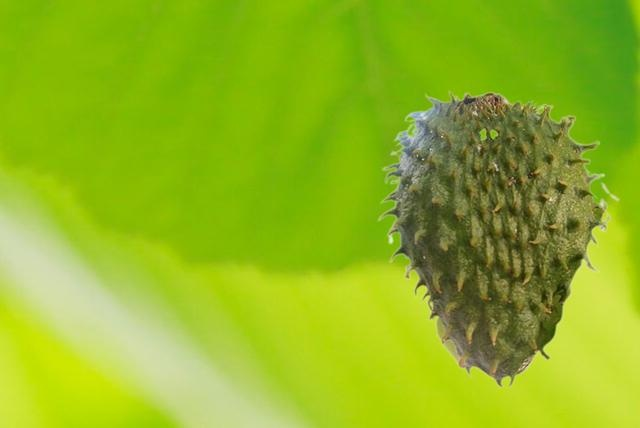guyabano: (377, 90, 619, 387)
